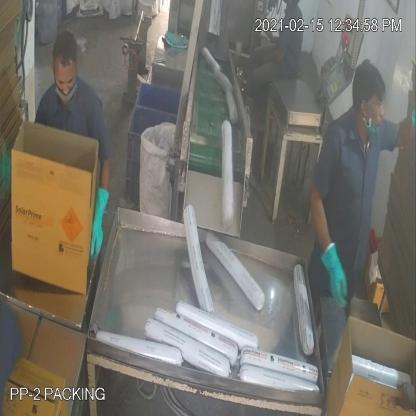glove: (316, 232, 353, 316), (80, 176, 110, 263)
